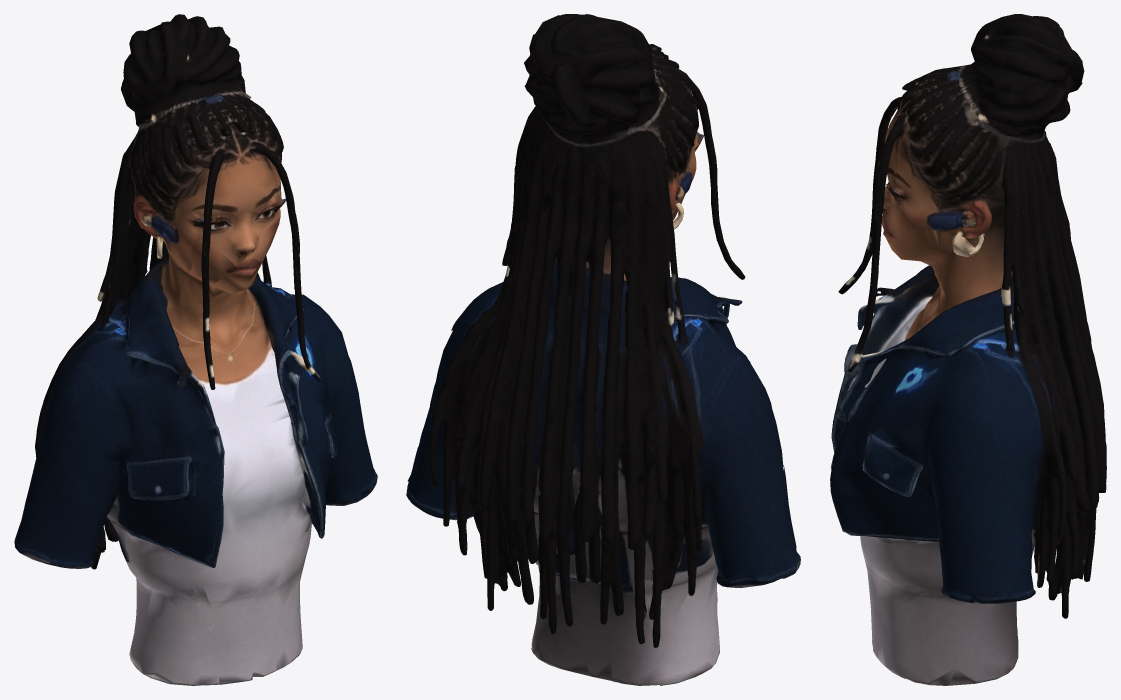
File: navi_bust_uvsafe_52k.glb
The picture shows the model from 3 angles, left to right: view 1: azimuth 30°, elevation 25°; view 2: azimuth 150°, elevation 25°; view 3: azimuth 270°, elevation 25°; orthographic projection. The views are drawn at different scales.
Visible parts, largest first — view 1: Navi_Unrigged_Bust; view 2: Navi_Unrigged_Bust; view 3: Navi_Unrigged_Bust.
Boxes of the visible parts, left/top/right/bottom form: Navi_Unrigged_Bust: left=14, top=14, right=377, bottom=685; Navi_Unrigged_Bust: left=406, top=14, right=800, bottom=685; Navi_Unrigged_Bust: left=830, top=14, right=1106, bottom=685.
Size of the model in its own units: 1.15 by 1.9 by 0.7571.
1 material, 1 textured.
